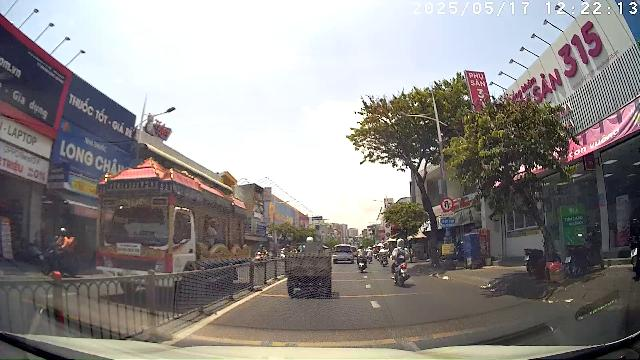124b-cam-oto-quay-dau-xe: (441, 196, 454, 212)
